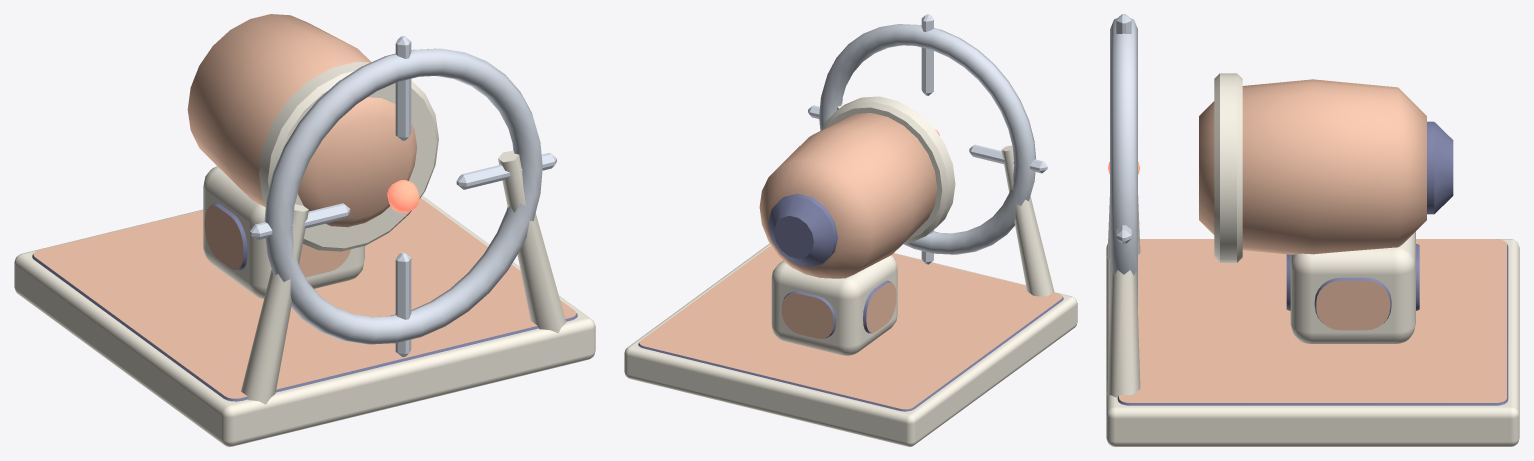
Rendered from R4X_WeakPointScanner.fbx.
3 renders of one model, left to right at view 1: azimuth 30°, elevation 25°; view 2: azimuth 150°, elevation 25°; view 3: azimuth 270°, elevation 25°, orthographic. The views are drawn at different scales.
Parts seen in each view (by area): view 1: R4X_WeakPointScanner_Body; view 2: R4X_WeakPointScanner_Body; view 3: R4X_WeakPointScanner_Body.
Boxes of the visible parts, <box> form: R4X_WeakPointScanner_Body: <box>14,14,595,446</box>; R4X_WeakPointScanner_Body: <box>624,14,1077,446</box>; R4X_WeakPointScanner_Body: <box>1106,14,1519,446</box>.
Bounding box in the file's own units: 0.514 × 0.4804 × 0.514.
